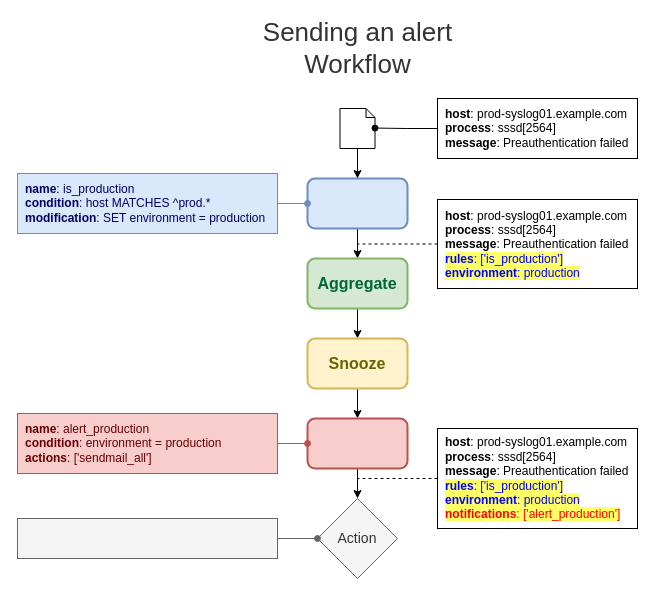
The diagram is 655 pixels wide and 596 high, and some of its shapes have lost their labels. The box of each missing label's shape, as (x1, y1, x2, y2) in pixels:
Log: (339, 108, 375, 148)
name: sendmail_all action: mailto all@example.com: (16, 518, 278, 558)
Notification: (306, 417, 408, 469)
Rule: (306, 177, 408, 229)
